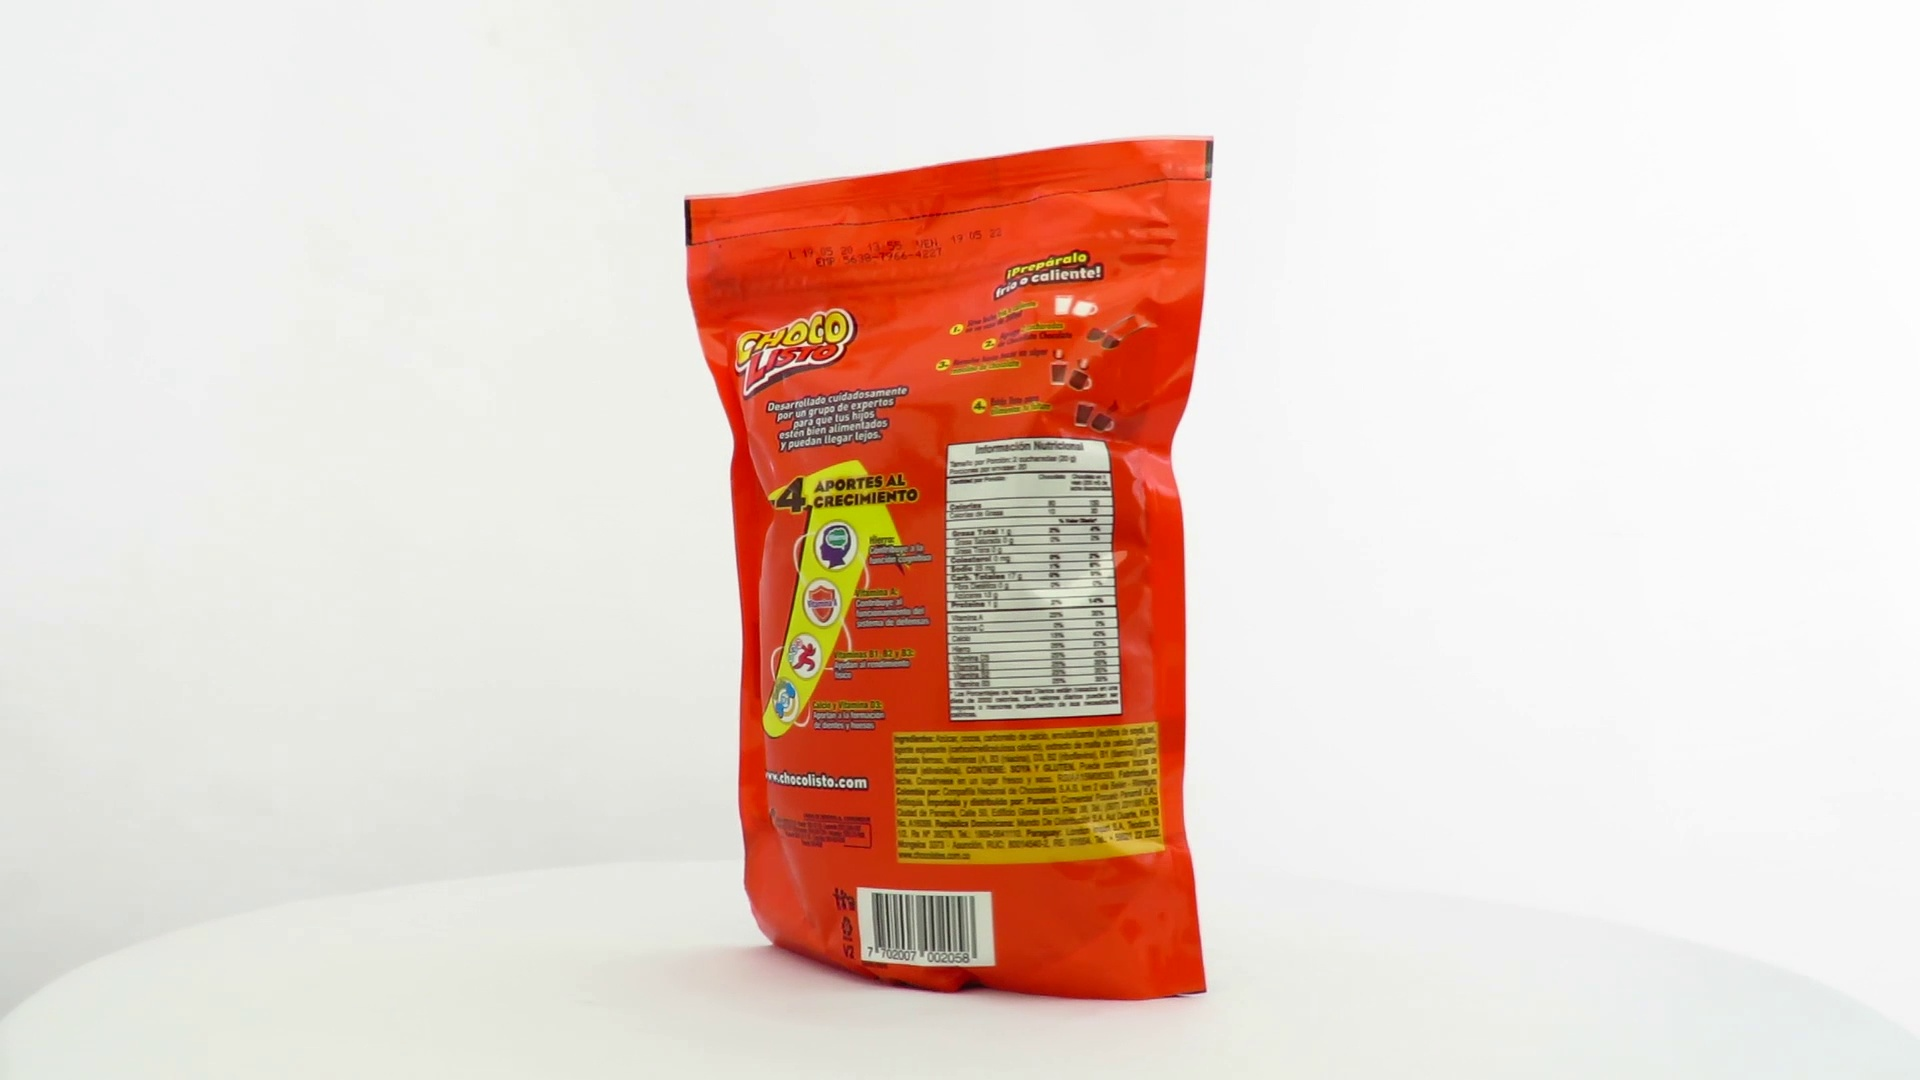COL0170103DYP40000: (679, 129, 1220, 1007)
